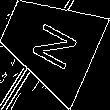N_NW: (21, 14, 78, 72)
